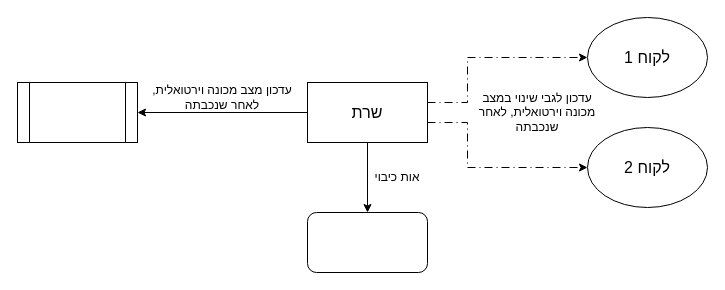
Some shapes in this 725 by 290 pixel diagram are drawn without their labels. The shapes that lost their labels are listed below. From the top down, each one's centre as x and y in pixels, then its label:
At (77,112): "מסד נתונים".
At (367,242): "מכונה וירטואלית".
